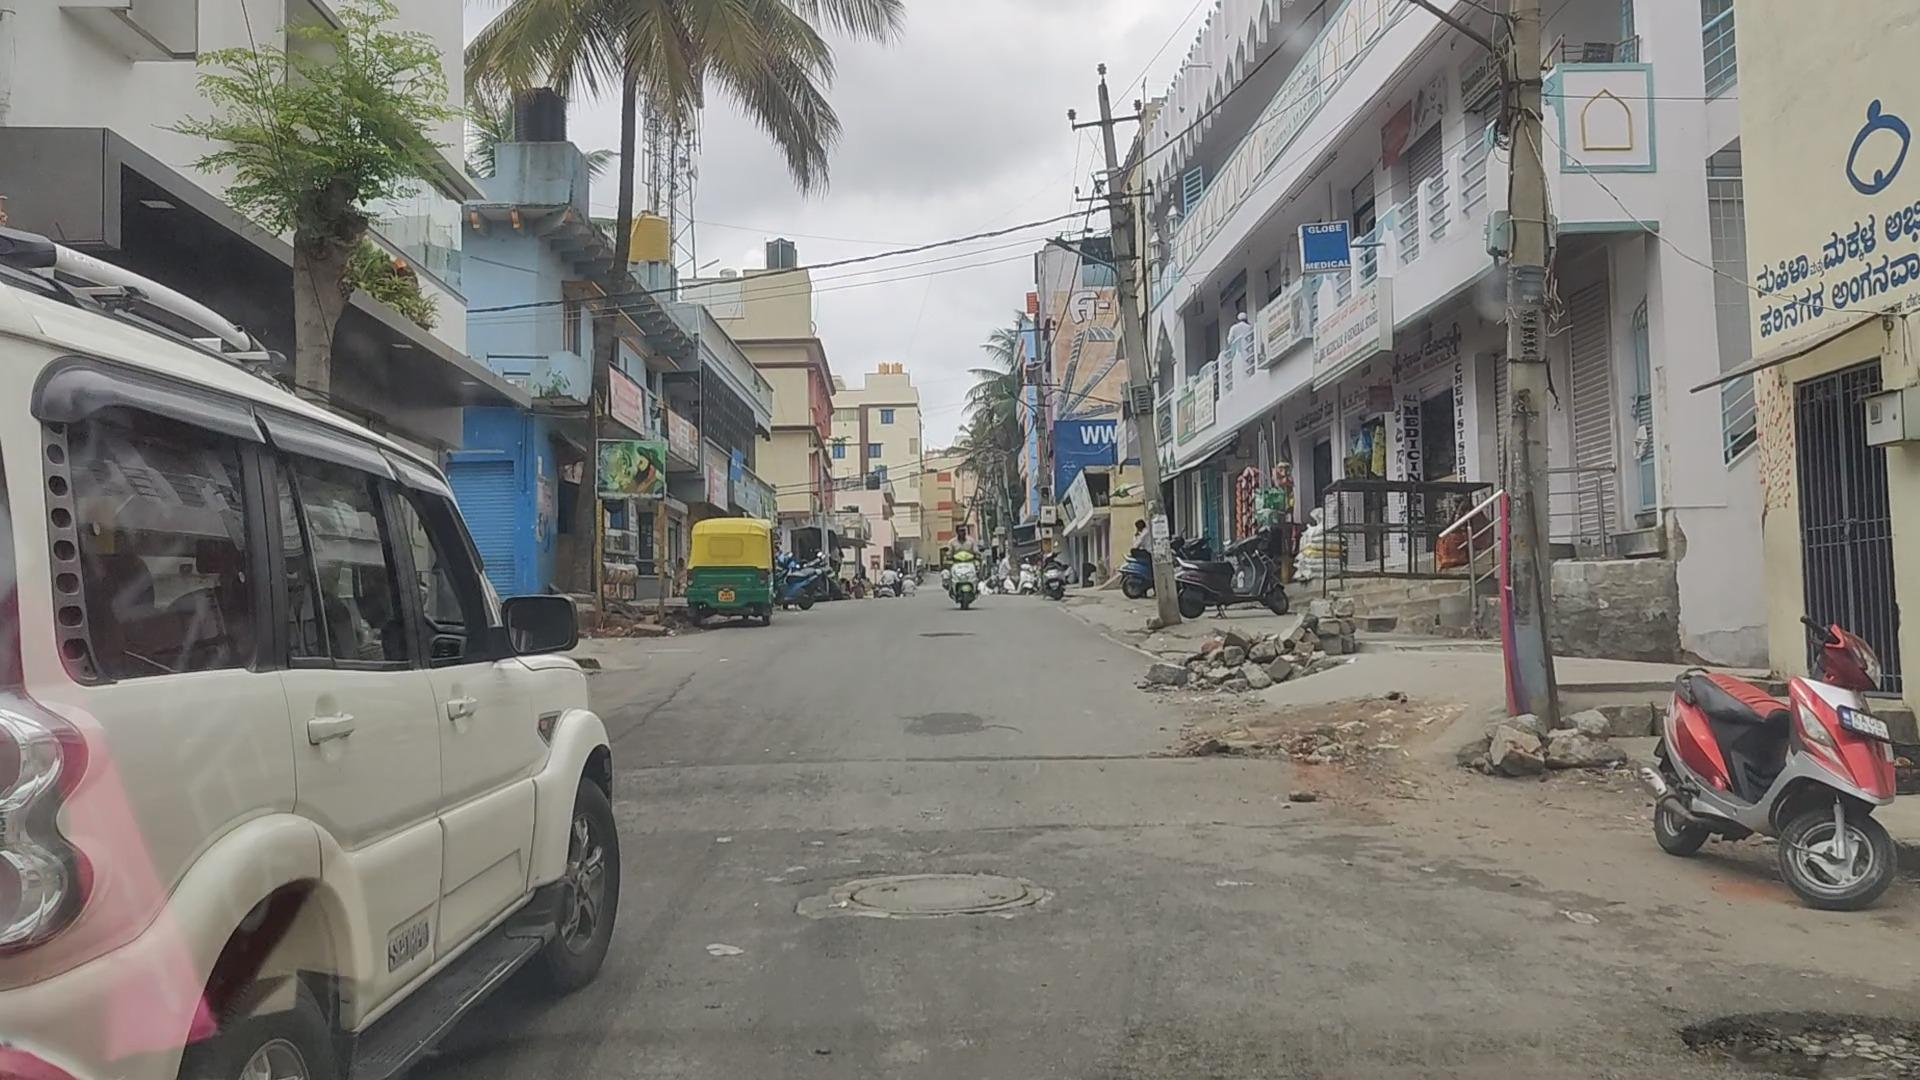RoadDamages: (1683, 1002, 1920, 1080), (824, 869, 1050, 938)
